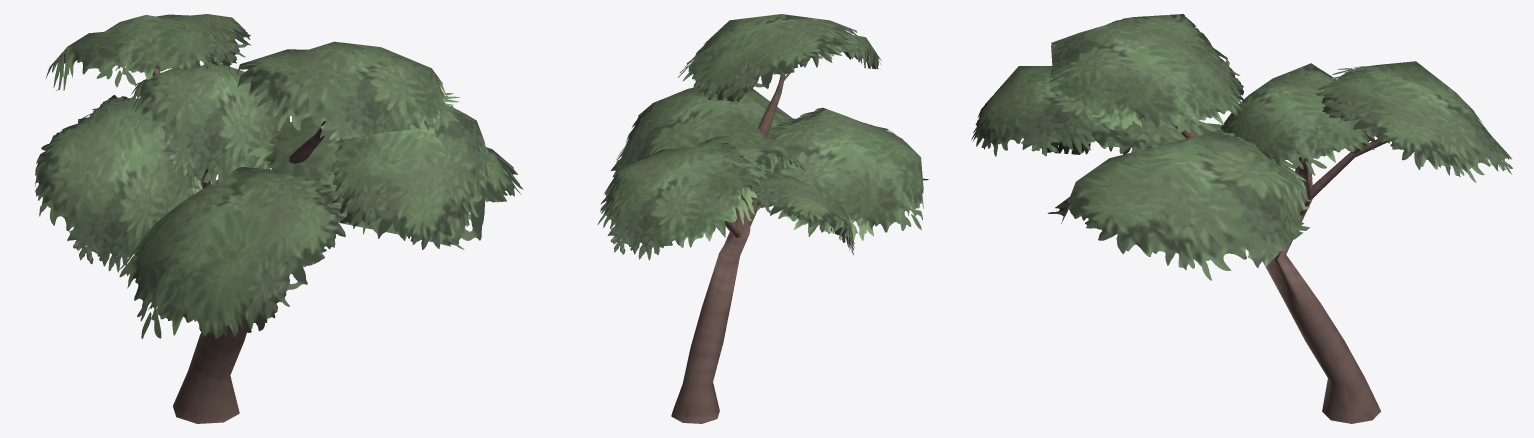
The model's file is ArvoreGrandePantanal.fbx.
3 renders of one model, left to right at view 1: azimuth 30°, elevation 25°; view 2: azimuth 150°, elevation 25°; view 3: azimuth 270°, elevation 25°, orthographic. The views are drawn at different scales.
Parts seen in each view (by area): view 1: ArvoreGrandePantanal; view 2: ArvoreGrandePantanal; view 3: ArvoreGrandePantanal.
Boxes of the visible parts, <box> form: ArvoreGrandePantanal: <box>35,14,523,423</box>; ArvoreGrandePantanal: <box>597,14,928,423</box>; ArvoreGrandePantanal: <box>971,14,1512,423</box>.
Bounding box in the file's own units: 207 × 210 × 279.
